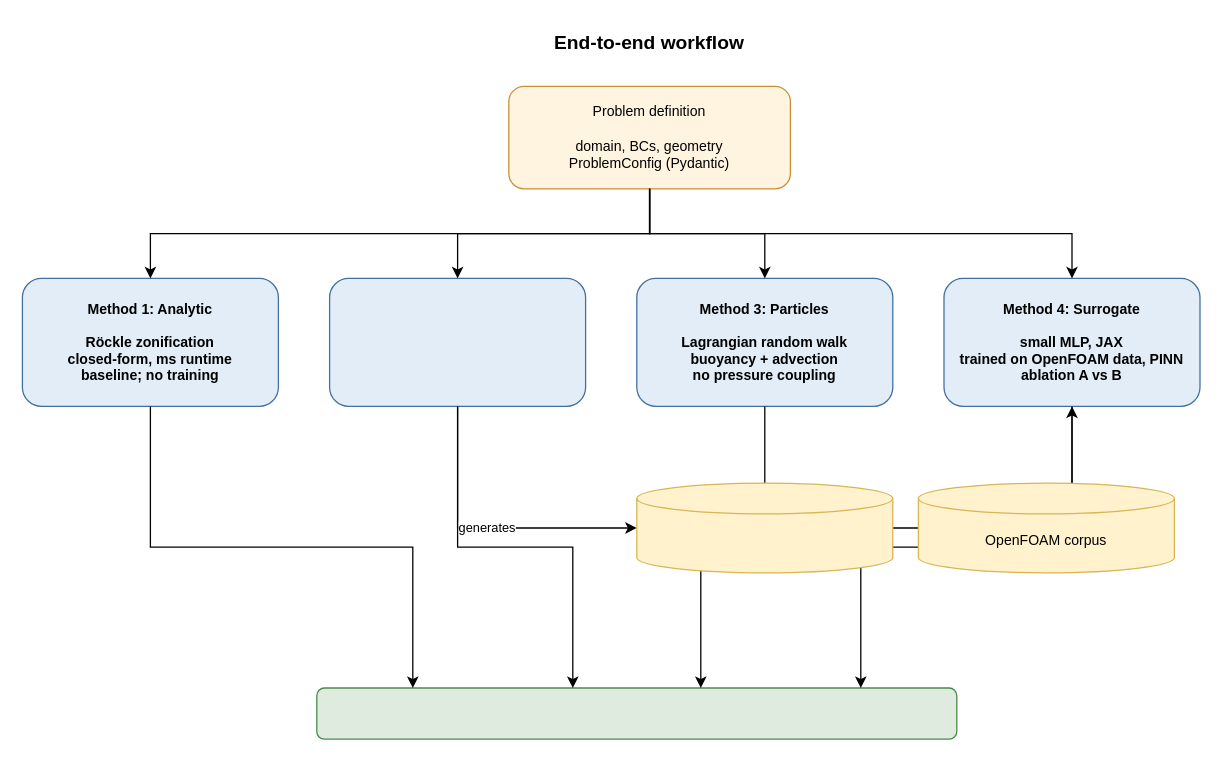
The diagram is 1222 pixels wide and 762 high, and some of its shapes have lost their labels. The shapes that lost their labels are listed below. From the top down, each one's centre as x and y in pixels, then its label:
At (x=457, y=341): "Method 2: PDE solver streamfunction–vorticity ~30s per scenario reference truth".
At (x=764, y=527): "PDE corpus 27 scenarios (3×3×3)".
At (x=636, y=713): "Check how all the methods compare in their outputs".
